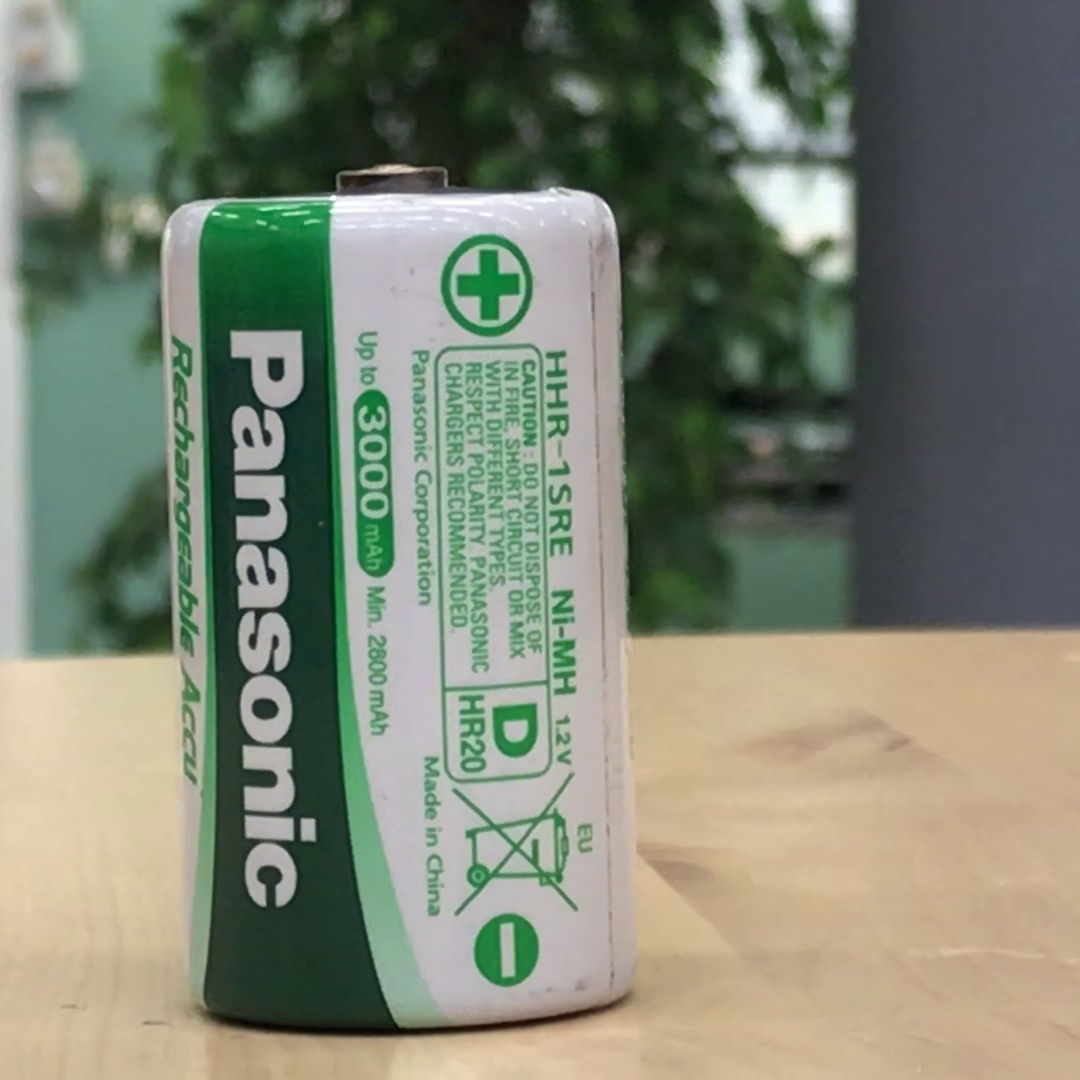keyword: (543, 581, 585, 704), (451, 688, 478, 781)
